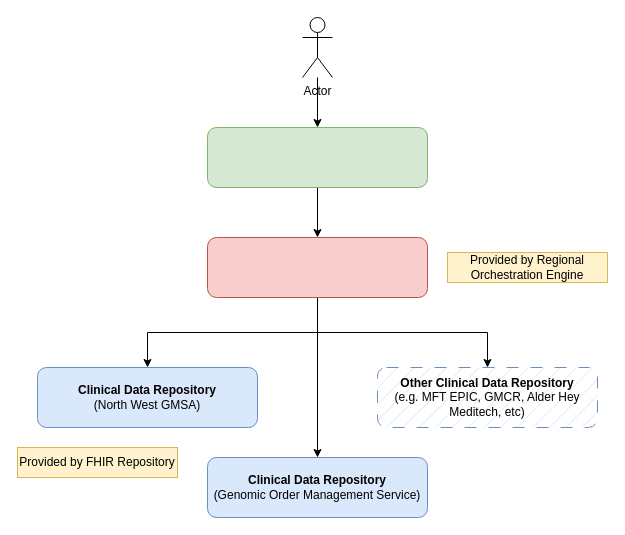
Some shapes in this 625 by 535 pixel diagram are drawn without their labels. Each missing label, with the centre of its shape:
Clinical Portal (or other applications): the point at 317,157
Health Information Exchange (HIE) (Federated Query): the point at 317,267
